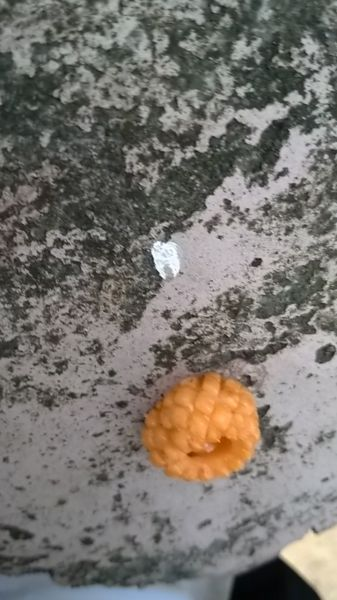eggs: (132, 364, 270, 485)
